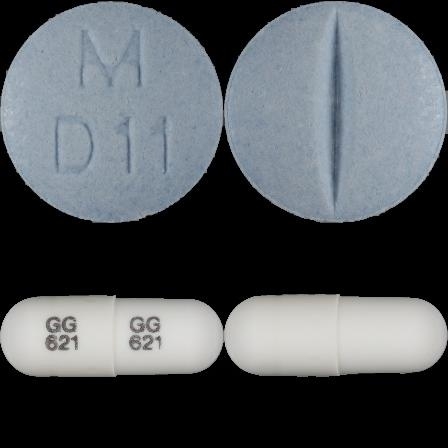54868-4802: (0, 0, 224, 224)
